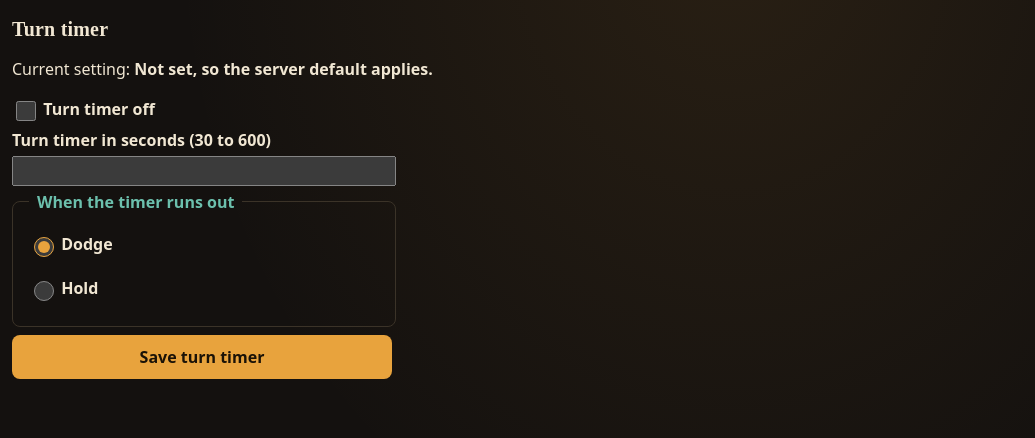
TurnTimerControl › shows a validation error and does not send an out-of-range value
Type "5" into the number field labelled "Turn timer in seconds (30 to 600)".
click(204, 171); type("5")  # box [12,156,396,186]
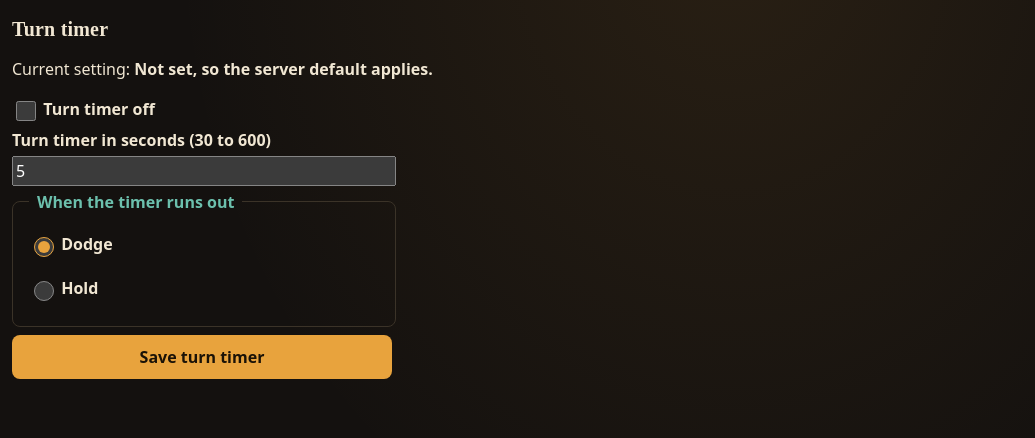
Click the button "Save turn timer".
click(202, 357)  # box [12,335,392,379]
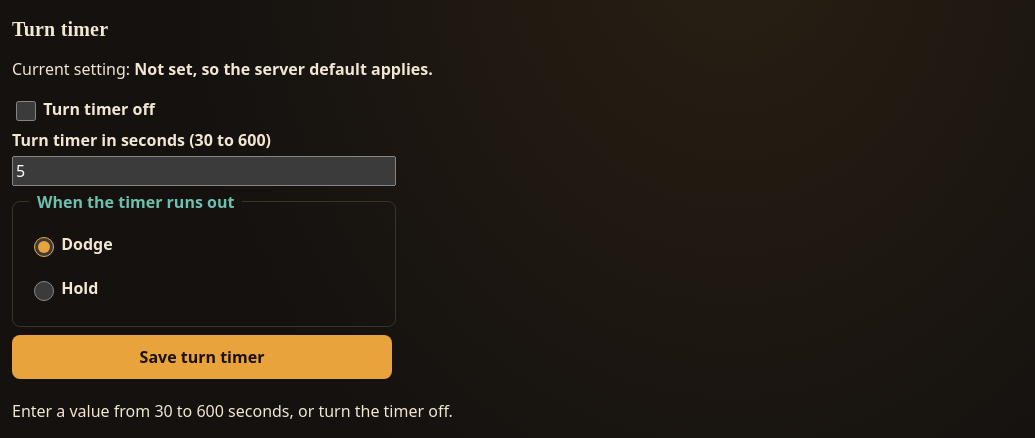
Expected: the message shows "30 to 600 seconds", [12,400,453,422]
